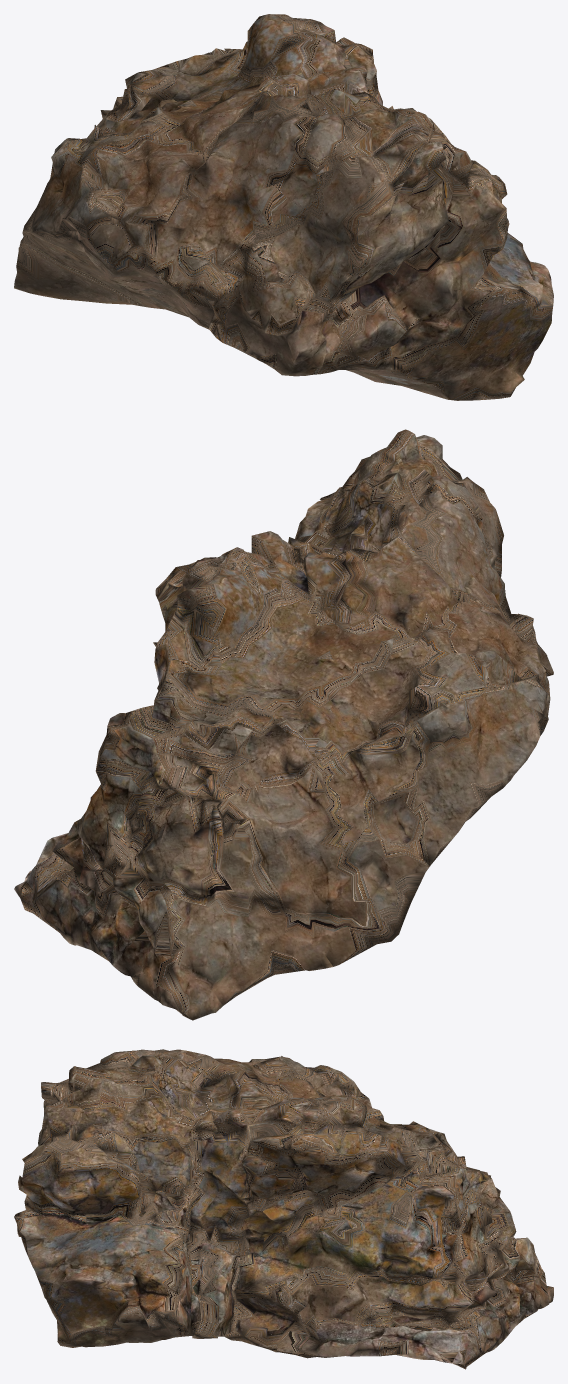
The model's file is boulder_01.glb.
The picture shows the model from 3 angles, top to bottom: view 1: azimuth 30°, elevation 25°; view 2: azimuth 150°, elevation 25°; view 3: azimuth 270°, elevation 25°; orthographic projection. The views are drawn at different scales.
Visible parts, largest first — view 1: boulder_01; view 2: boulder_01; view 3: boulder_01.
Boxes of the visible parts, x1,y1,x2,y2 form: boulder_01: (14, 14, 553, 400); boulder_01: (14, 429, 553, 1020); boulder_01: (14, 1049, 553, 1369).
Size of the model in its own units: 1.27 by 1 by 1.82.
1 material, 1 textured.
